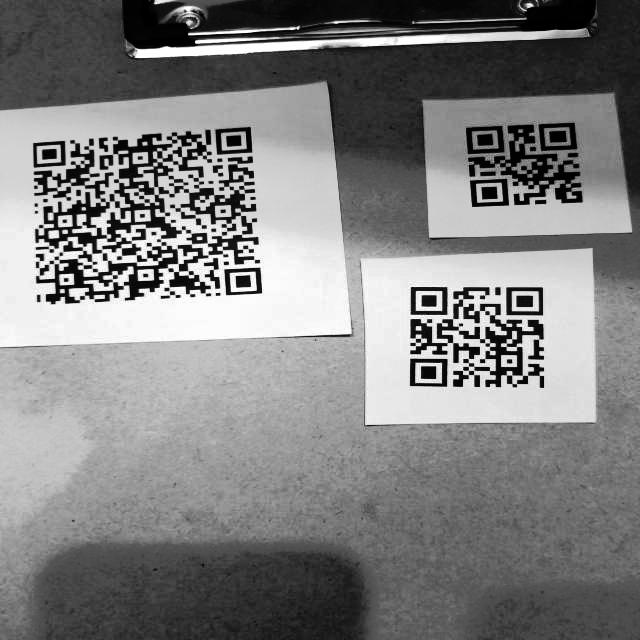qr_code: (18, 121, 273, 313), (399, 278, 558, 398), (450, 114, 592, 212)
